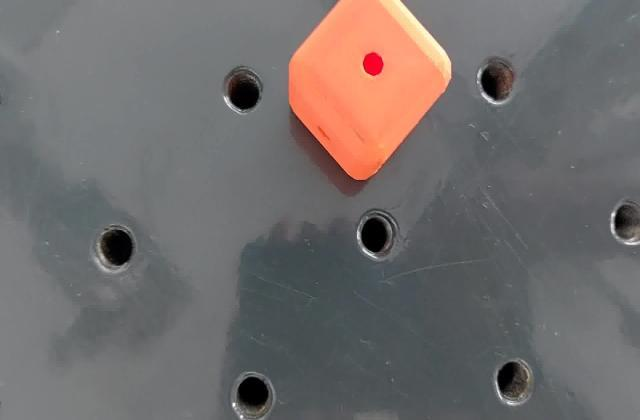sticker: (284, 0, 456, 184)
